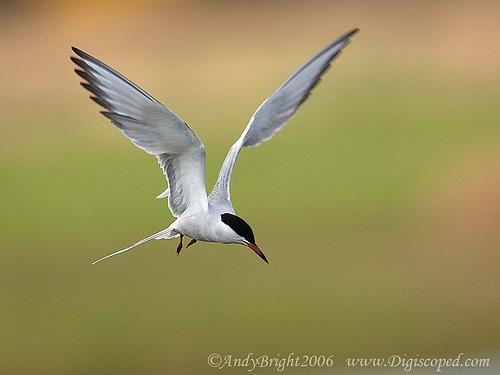bird: (72, 27, 358, 265)
